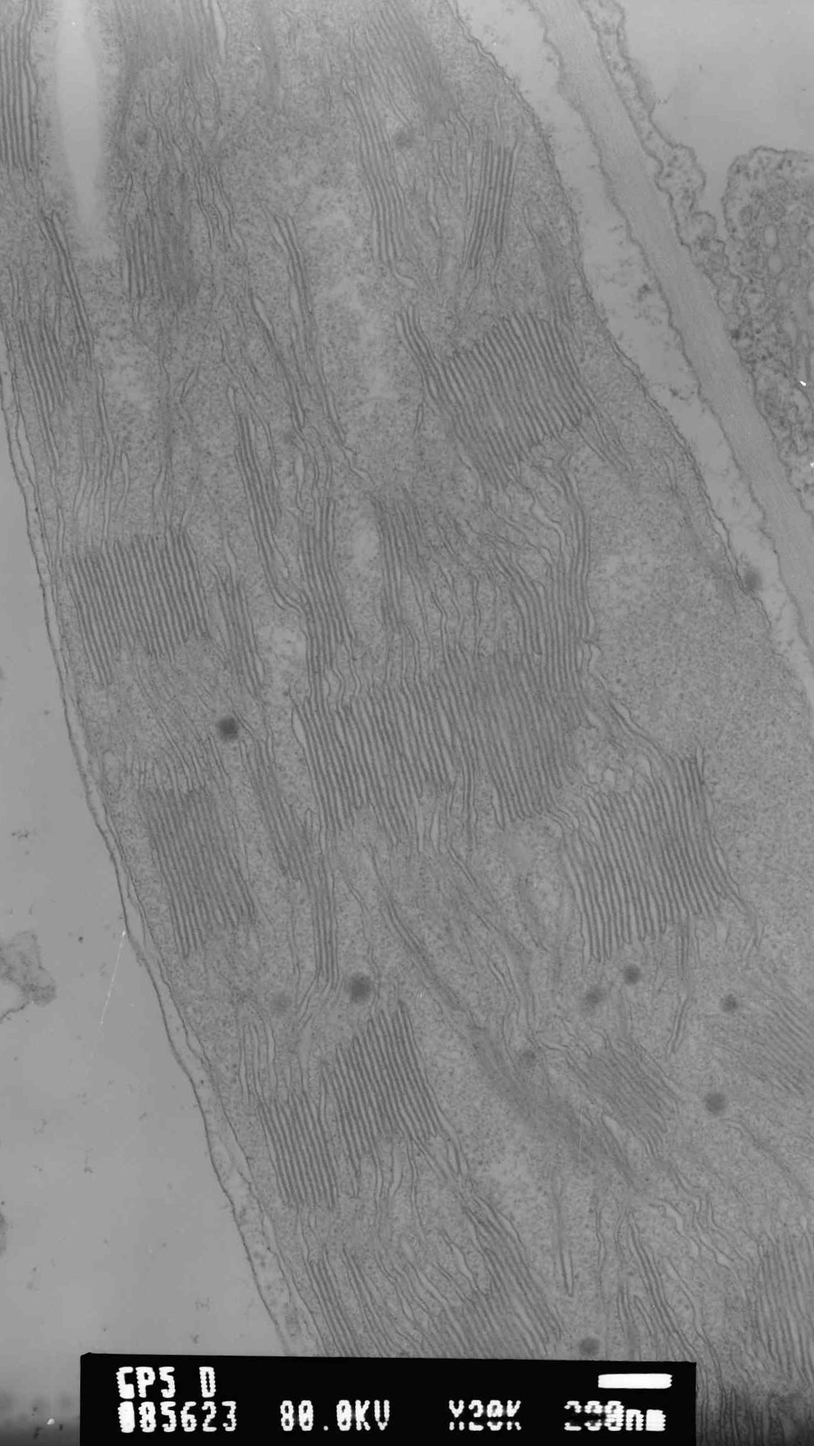granum: (285, 637, 609, 854), (389, 301, 609, 493), (552, 753, 744, 967), (58, 523, 227, 689), (393, 1206, 570, 1359), (127, 772, 266, 962), (316, 997, 456, 1178), (488, 460, 600, 657), (101, 0, 232, 160), (479, 1038, 616, 1184), (574, 1034, 690, 1170), (340, 79, 421, 272), (346, 1, 468, 129), (263, 211, 340, 410), (376, 894, 477, 1035), (292, 494, 360, 679), (235, 737, 317, 884), (253, 1087, 344, 1213), (231, 410, 294, 590), (732, 972, 814, 1106), (744, 1230, 814, 1384), (369, 497, 433, 637), (114, 206, 199, 306), (459, 141, 523, 273), (302, 1251, 373, 1356), (11, 313, 79, 420), (213, 570, 269, 697), (0, 17, 41, 180), (526, 220, 578, 327), (305, 883, 347, 992), (35, 206, 81, 288), (338, 1245, 381, 1304), (20, 0, 47, 20)
